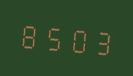eight: (18, 15, 41, 53)
five: (42, 17, 65, 55)
three: (90, 22, 113, 60)
zero: (66, 20, 89, 57)
